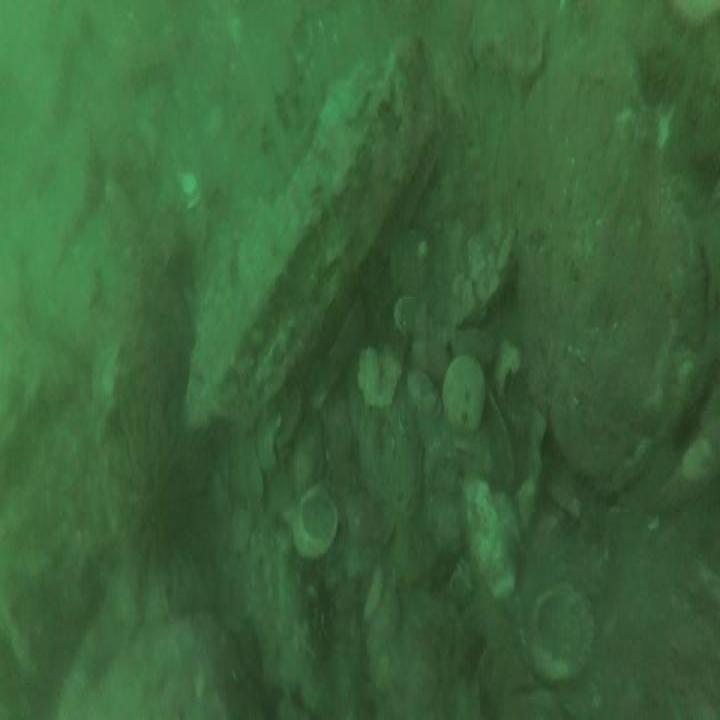echinus: (110, 430, 195, 569)
